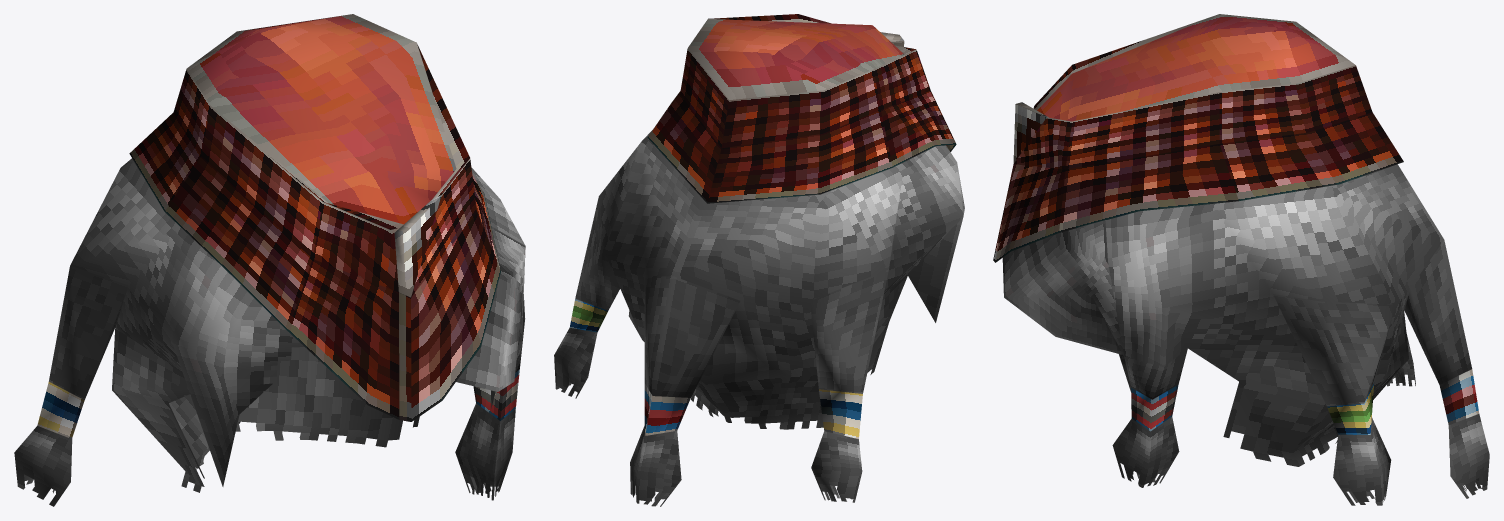
File: f_helmet039.obj
The picture shows the model from 3 angles, left to right: view 1: azimuth 30°, elevation 25°; view 2: azimuth 150°, elevation 25°; view 3: azimuth 270°, elevation 25°; orthographic projection. The views are drawn at different scales.
Parts seen in each view (by area): view 1: mesh01, mesh00; view 2: mesh00, mesh01; view 3: mesh00, mesh01.
Part boxes in pixels (bbox=[...]): mesh01: bbox=[37, 14, 519, 438]; mesh00: bbox=[14, 158, 525, 506]; mesh00: bbox=[554, 130, 964, 506]; mesh01: bbox=[569, 14, 956, 438]; mesh00: bbox=[1002, 164, 1489, 505]; mesh01: bbox=[993, 14, 1479, 434].
Bounding box in the file's own units: 23.09 × 27.57 × 28.04.
2 materials, 2 textured.
